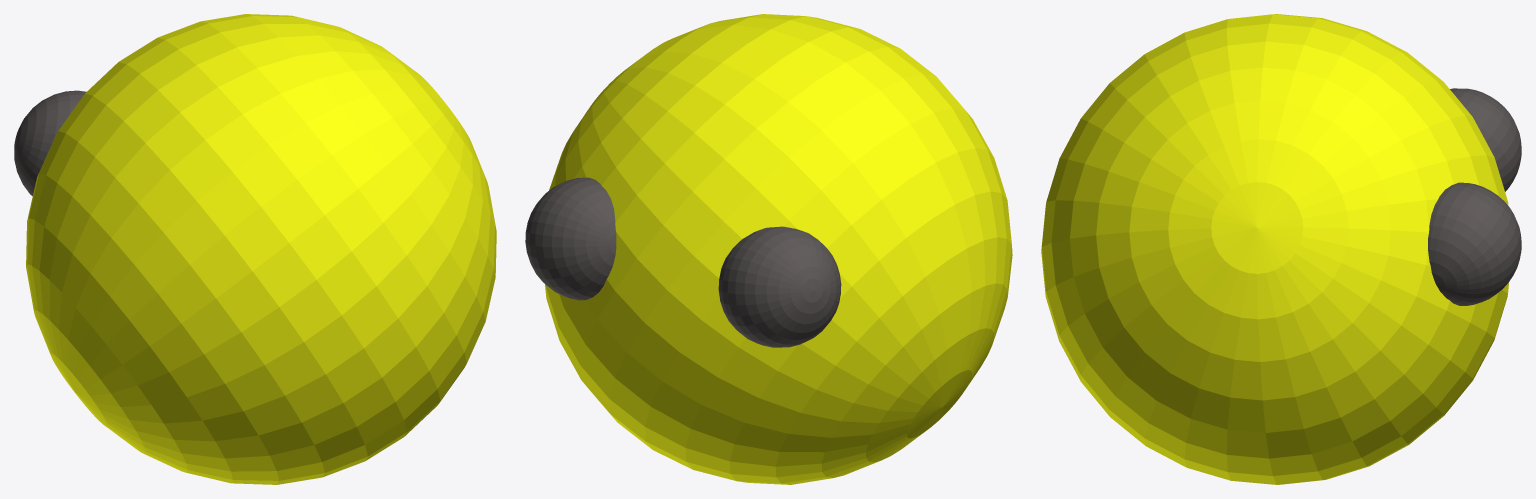
Rendered from colobok_Roma.glb.
The picture shows the model from 3 angles, left to right: view 1: azimuth 30°, elevation 25°; view 2: azimuth 150°, elevation 25°; view 3: azimuth 270°, elevation 25°; orthographic projection.
Visible parts, largest first — view 1: Sphere.001, Sphere; view 2: Sphere.001, Sphere, Sphere.002; view 3: Sphere.001, Sphere.002, Sphere.
Boxes of the visible parts, bbox=[...] form: Sphere.001: bbox=[26, 14, 496, 484]; Sphere: bbox=[14, 90, 86, 195]; Sphere.001: bbox=[545, 14, 1012, 484]; Sphere: bbox=[718, 226, 841, 347]; Sphere.002: bbox=[525, 177, 616, 300]; Sphere.001: bbox=[1041, 14, 1508, 484]; Sphere.002: bbox=[1428, 182, 1521, 305]; Sphere: bbox=[1450, 88, 1521, 191].
Size of the model in its own units: 1.22 by 1.22 by 1.24.
